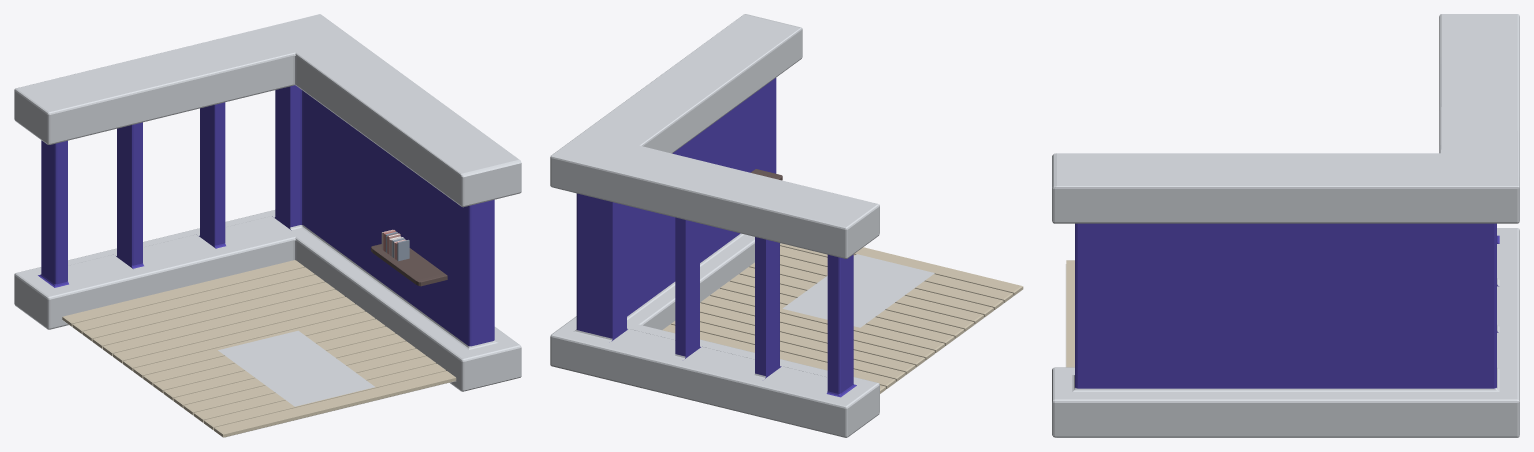
The model's file is base_room_purple.gltf.
3 renders of one model, left to right at view 1: azimuth 30°, elevation 25°; view 2: azimuth 150°, elevation 25°; view 3: azimuth 270°, elevation 25°, orthographic. The views are drawn at different scales.
Parts seen in each view (by area): view 1: Cube.001, Plane.001, Plane.008, Cube.003; view 2: Cube.001, Plane.001, Plane.008; view 3: Cube.001, Plane.001.
Part boxes in pixels (box(x1,y1,x2,y2)): Cube.001: box(14, 14, 521, 391); Plane.001: box(62, 260, 456, 437); Plane.008: box(218, 330, 374, 406); Cube.003: box(371, 244, 447, 286); Cube.001: box(550, 14, 879, 437); Plane.001: box(662, 243, 1023, 393); Plane.008: box(782, 254, 934, 327); Cube.001: box(1052, 14, 1519, 437); Plane.001: box(1066, 260, 1074, 367).
Size of the model in its own units: 17.44 by 11.8 by 19.86.
